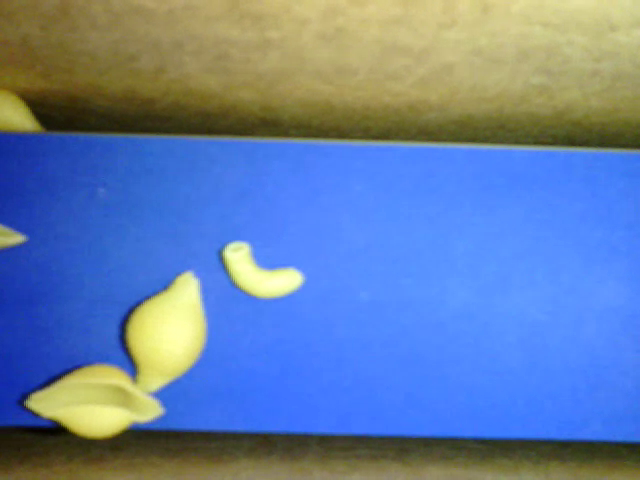elbow: (220, 239, 306, 303)
shell: (119, 264, 211, 393), (25, 360, 166, 438), (1, 87, 50, 133)
